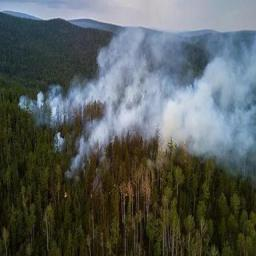Heavy smoke: (164, 83, 256, 155)
Low smoke: (27, 73, 162, 168), (94, 22, 256, 77)
